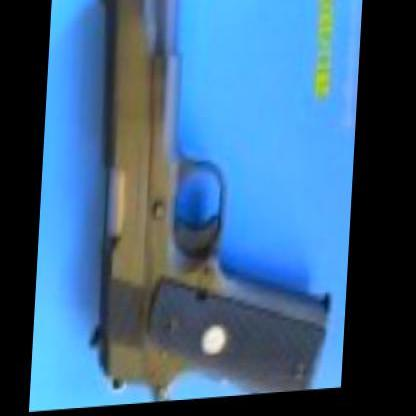pistol: (80, 0, 348, 408)
